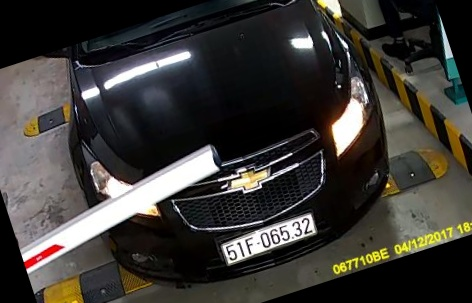plate: (213, 207, 329, 272)
